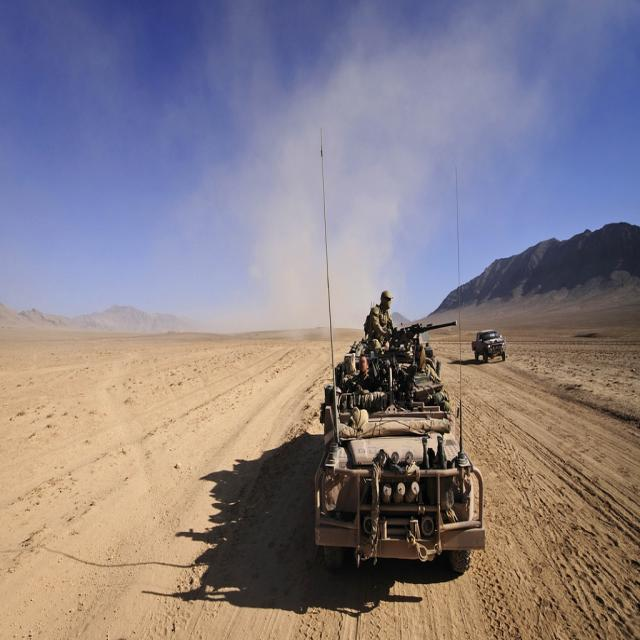tank: (314, 132, 484, 576)
